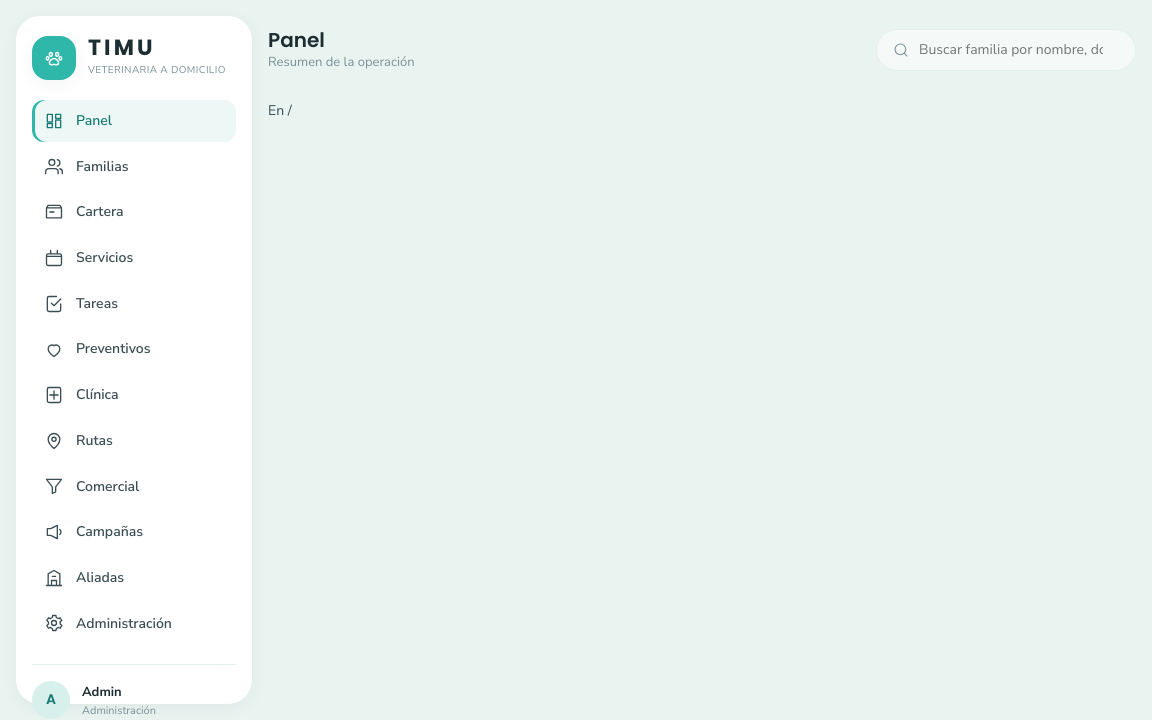
Scenario: AppLayout › el buscador de la cabecera lleva a familias con la búsqueda
The image size is (1152, 720).
Type "Ana Ruiz" into the search field named "Buscar familias" at (1018, 50), box [917, 38, 1119, 62]
Then press Enter
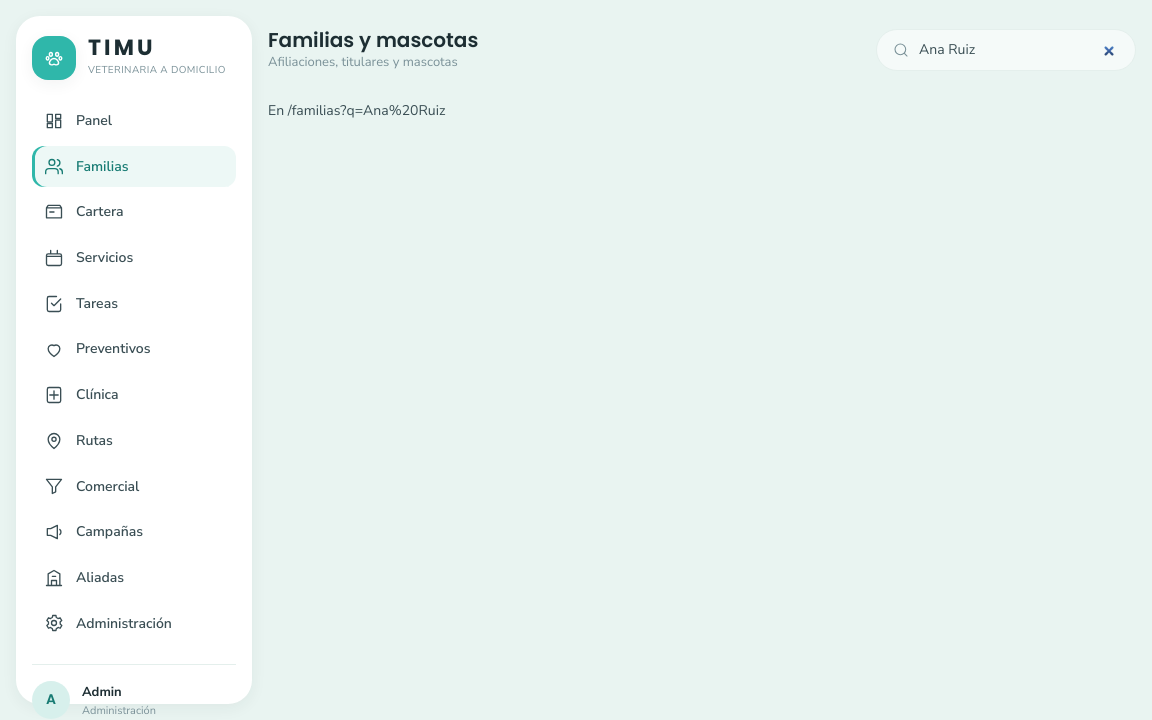
Result: the text "En /familias?q=Ana%20Ruiz" is shown at [268, 101, 446, 120]
